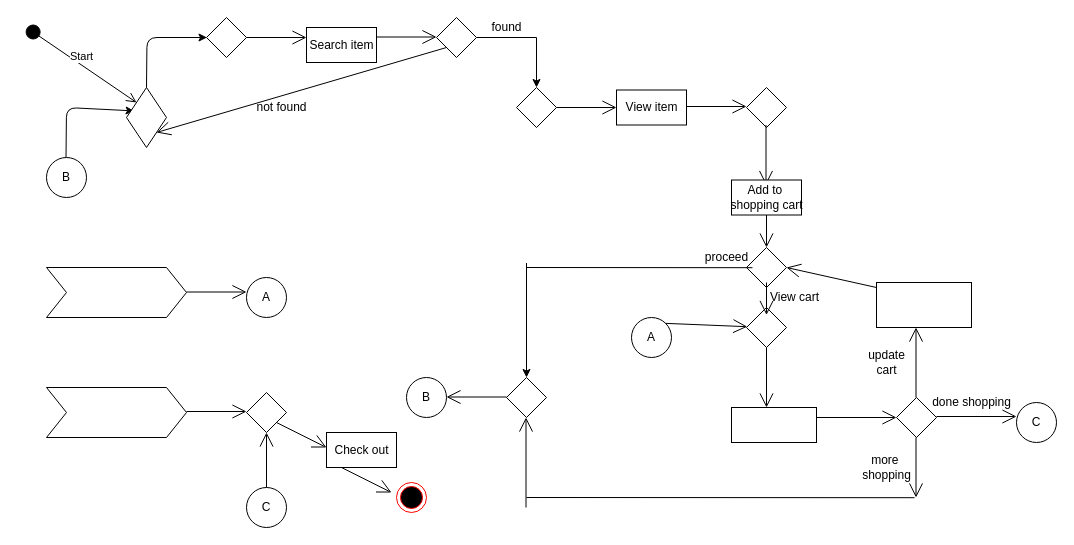
Image size: 1074x545. Some labels were removed from this diagram. Each missing label, with the centre of its shape:
Check cart(cart can check any time): the point at 116,292
Proceed to check out: the point at 116,412
search: the point at 146,117
Update shopping cart: the point at 924,305
View shopping cart: the point at 773,424
